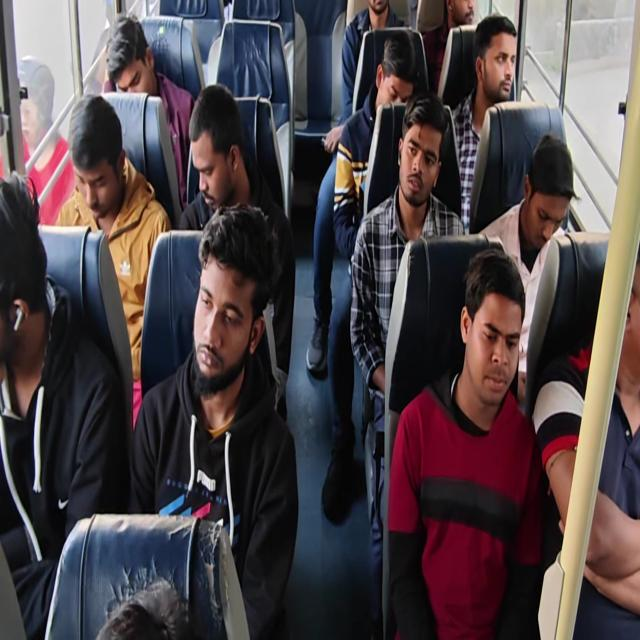person: (1, 2, 637, 638), (129, 201, 299, 638), (349, 91, 465, 637), (386, 247, 546, 638), (0, 170, 126, 638), (532, 244, 639, 638), (178, 82, 296, 422), (54, 93, 172, 429), (306, 30, 418, 378), (478, 132, 580, 407), (105, 14, 196, 208), (449, 14, 518, 232), (324, 0, 408, 154), (16, 55, 76, 225), (95, 576, 192, 639), (422, 0, 474, 95)
